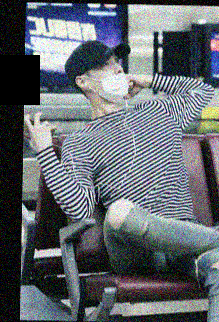mask_weared_incorrect: (88, 56, 129, 100)
